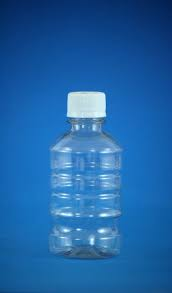Botella: (50, 92, 120, 258)
